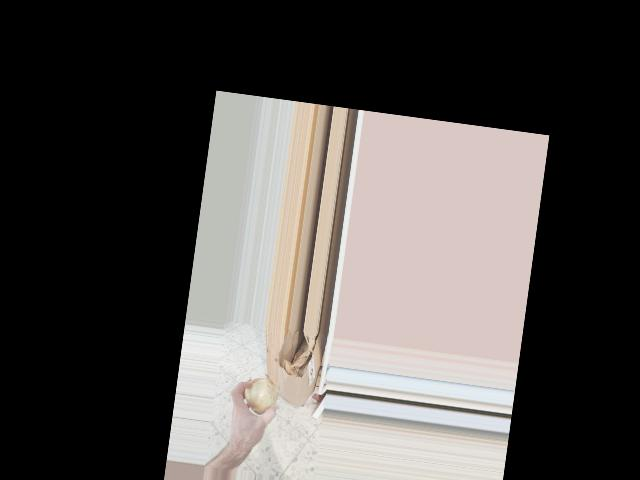onion: (240, 371, 282, 416)
